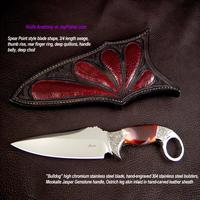knife: (7, 118, 189, 173)
